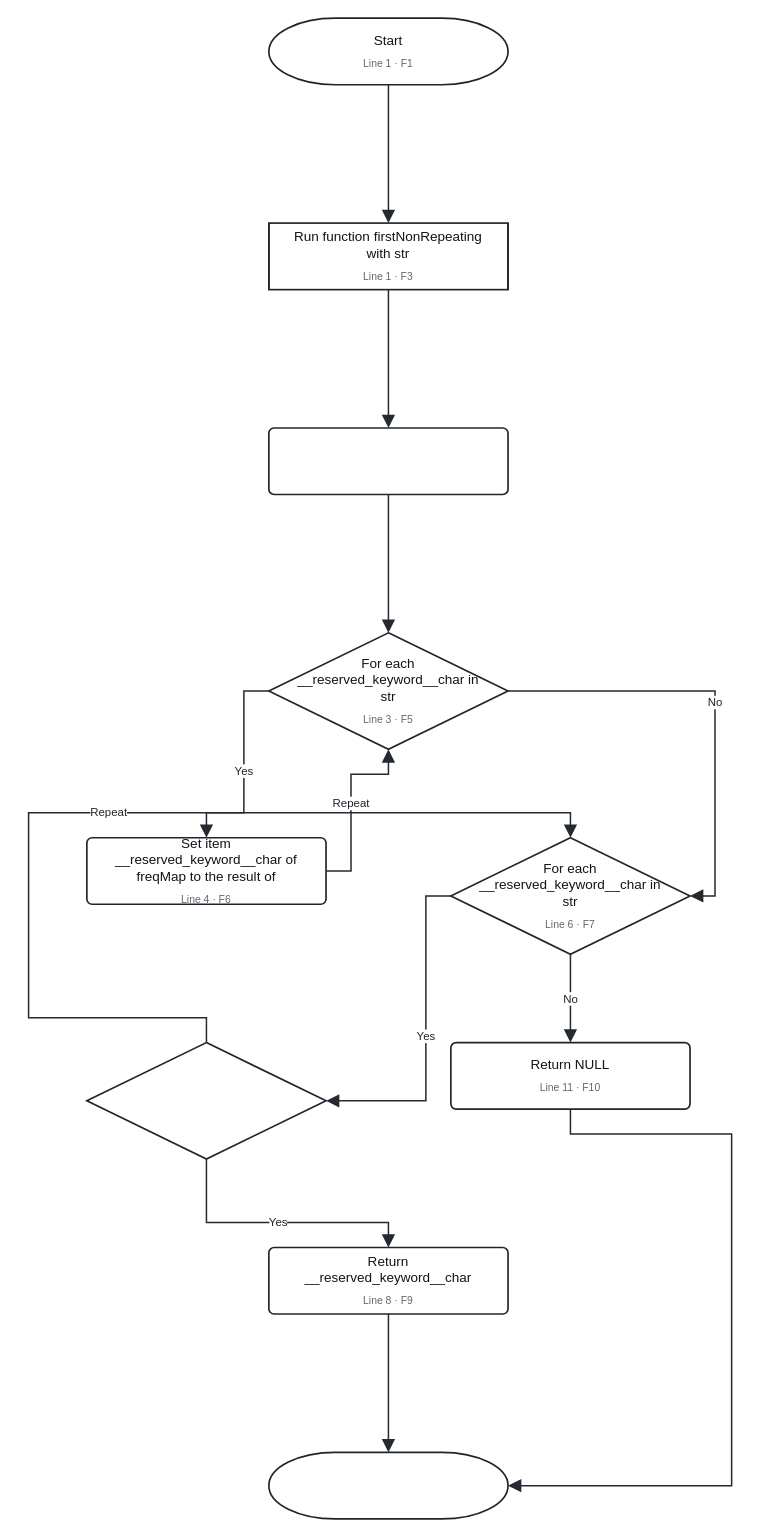
This 762x1538 diagram has some shape labels left out. The centre of each missing label's shape, as x and y in pixels:
"End Line 1 · F2" belongs at (x=387, y=1485).
"Item __reserved_keyword__char of freqMap is equal to 1? Line 7 · F8" belongs at (x=205, y=1100).
"Set freqMap to an empty dictionary Line 2 · F4" belongs at (x=387, y=461).
